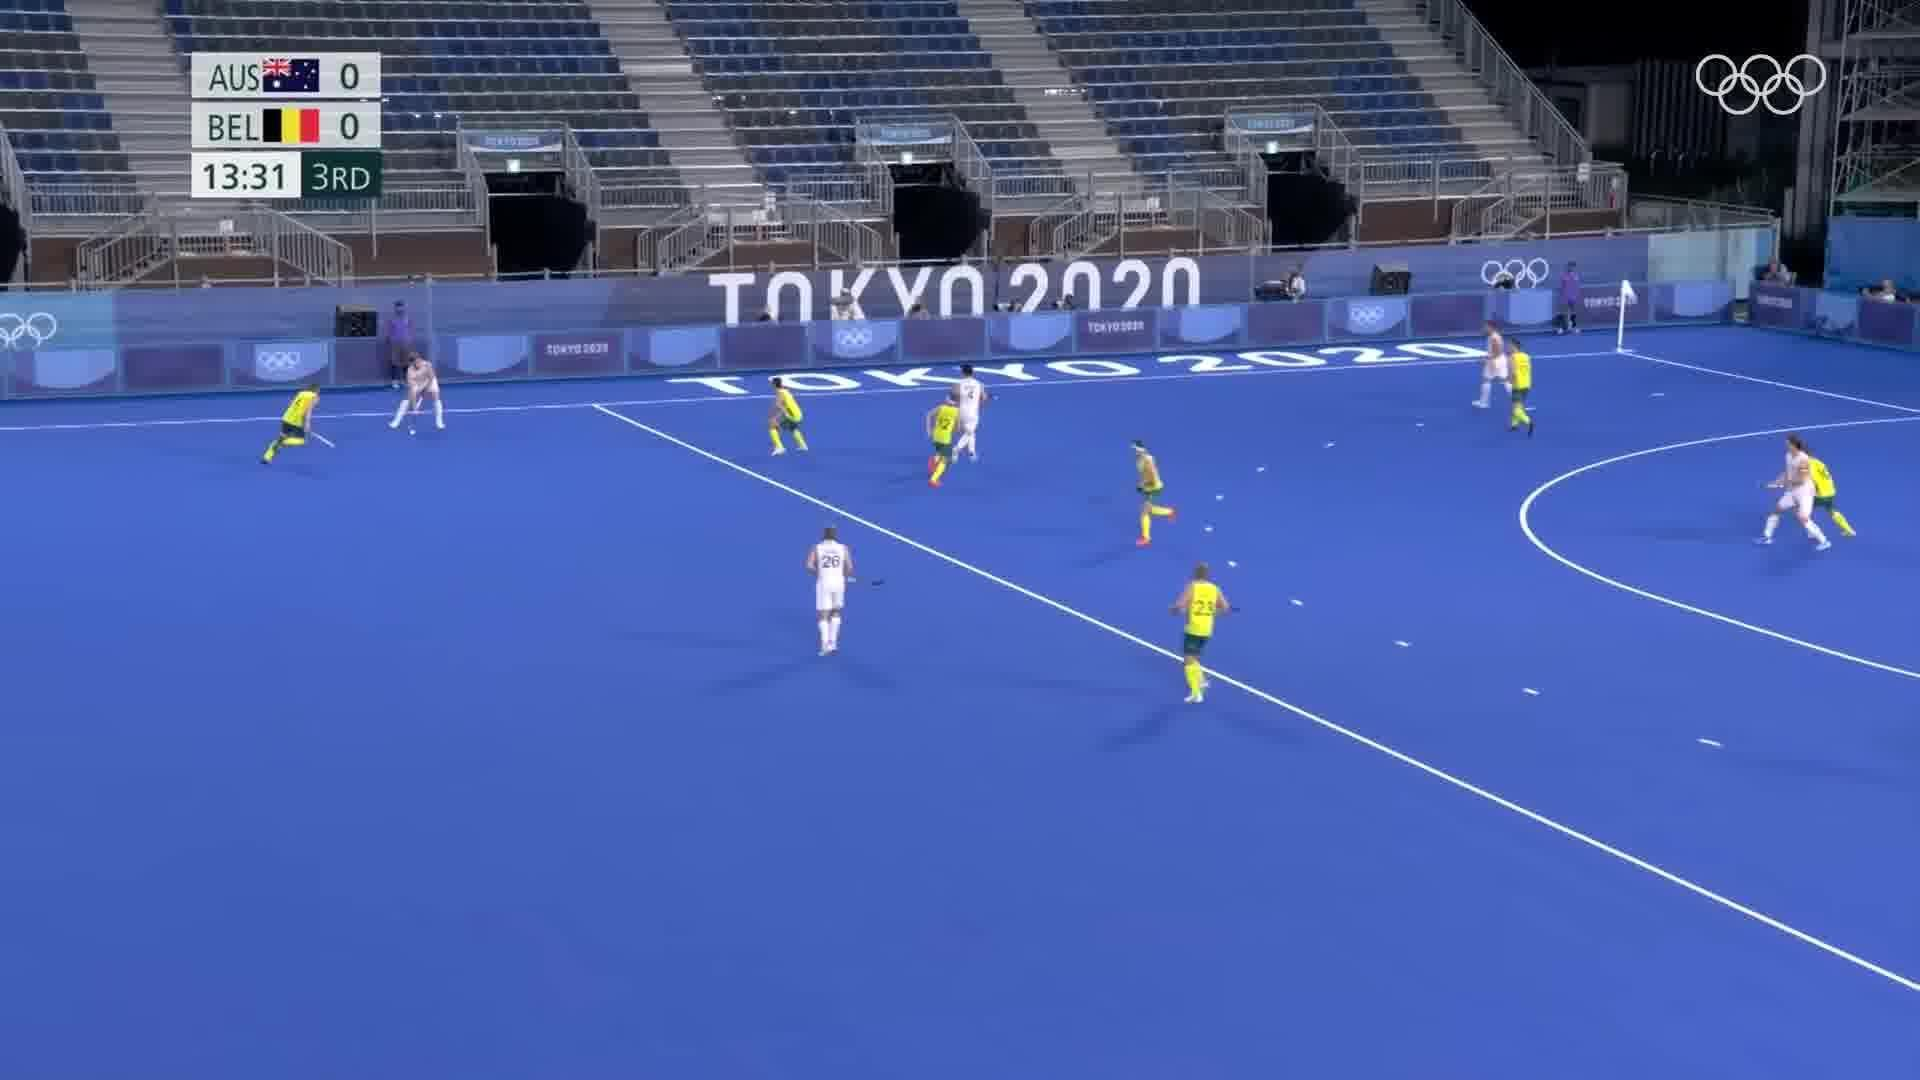ball: (406, 429, 417, 438)
